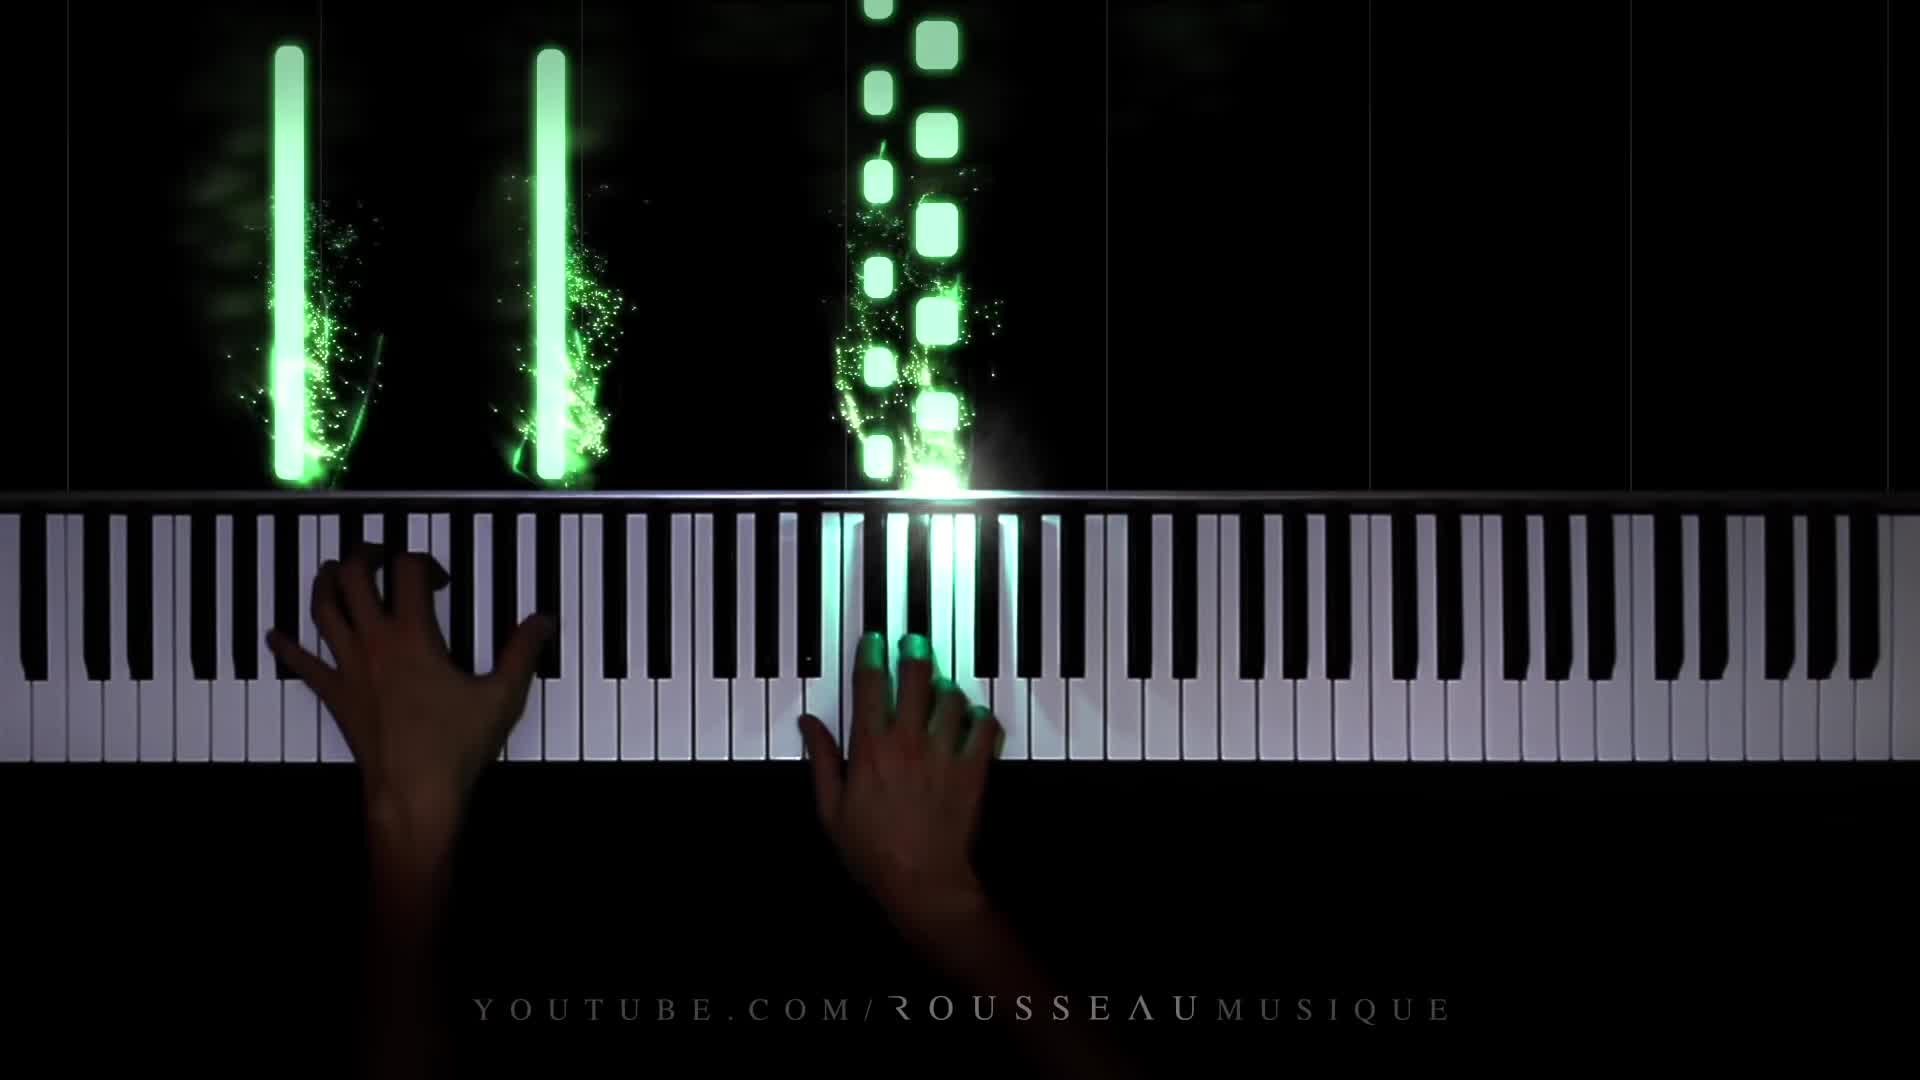left: (262, 538, 556, 807)
right: (798, 632, 1000, 891)
